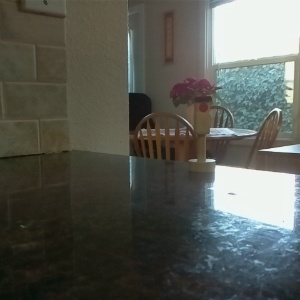traffic light red: (186, 93, 217, 175)
